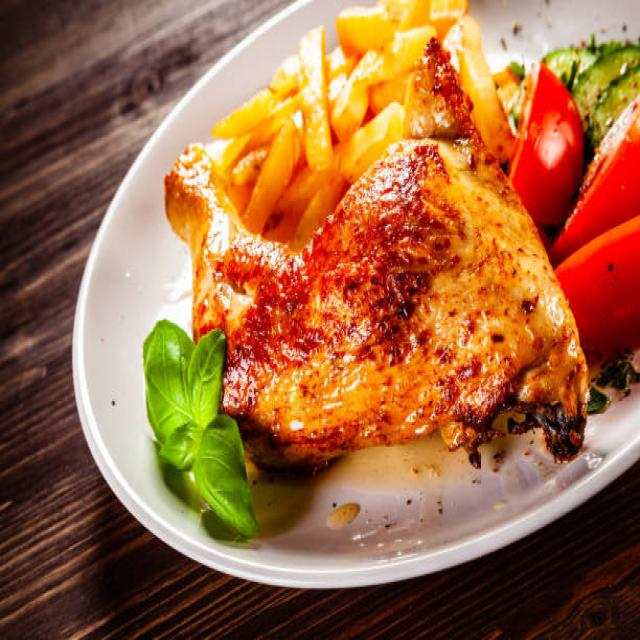Frango: (156, 33, 590, 488)
